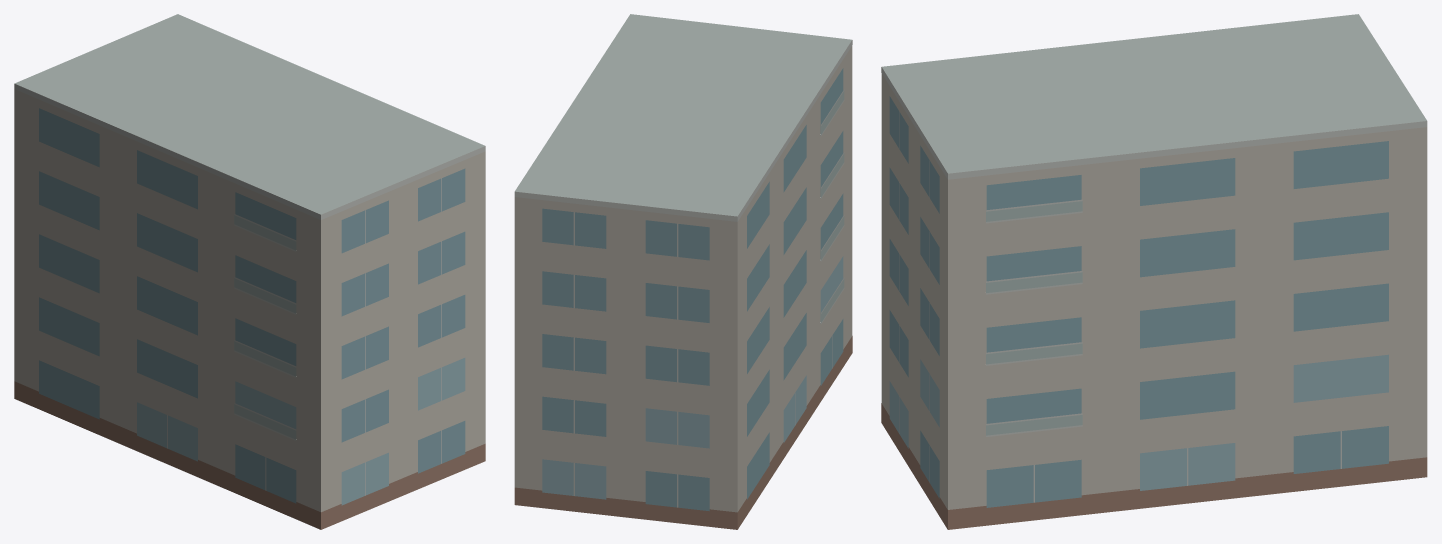
Rendered from survey-upis-33024160.glb.
3 renders of one model, left to right at view 1: azimuth 30°, elevation 25°; view 2: azimuth 150°, elevation 25°; view 3: azimuth 270°, elevation 25°, orthographic. The views are drawn at different scales.
Parts seen in each view (by area): view 1: survey-upis-33024160.tmp; view 2: survey-upis-33024160.tmp; view 3: survey-upis-33024160.tmp.
Boxes of the visible parts, left/top/right/bottom form: survey-upis-33024160.tmp: left=14, top=14, right=485, bottom=529; survey-upis-33024160.tmp: left=514, top=14, right=852, bottom=529; survey-upis-33024160.tmp: left=881, top=14, right=1427, bottom=529.
Size of the model in its own units: 13.76 by 14.3 by 19.87.
